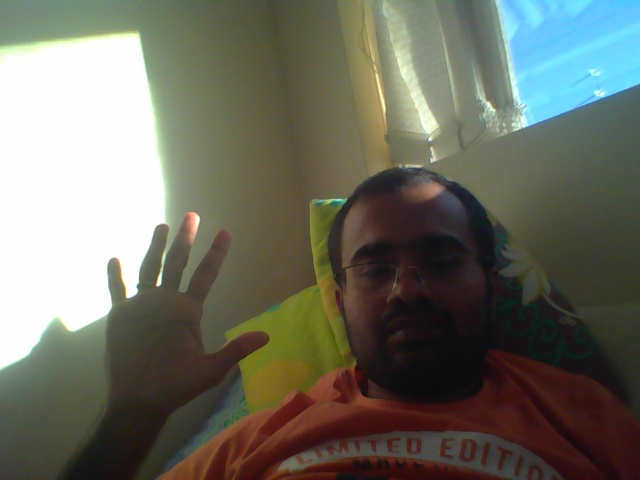LiveLong: (99, 208, 273, 421)
